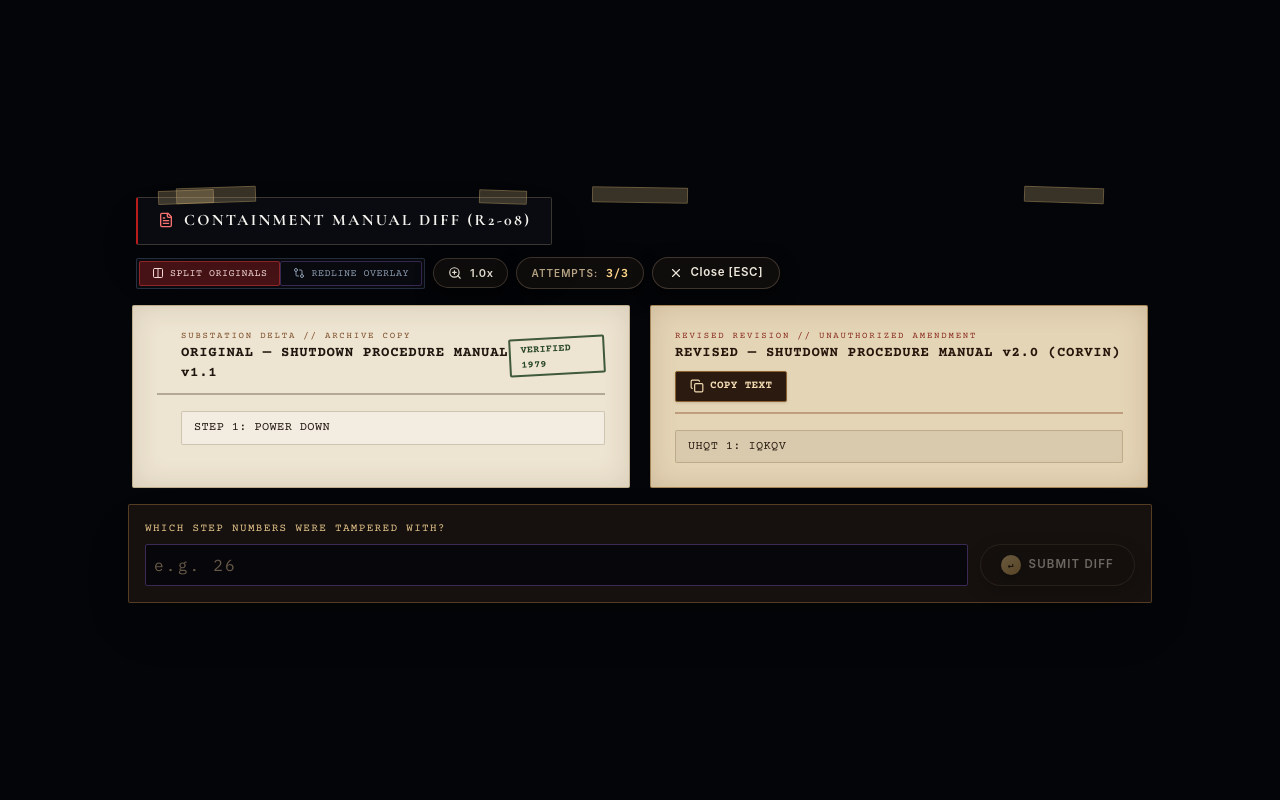
Test case: Room 6 (The Anointing Vault) Comprehensive Test Suite › counts attempts down as remaining attempts (3/3 -> 2/3) in ManualDiffModal and FailsafeCircuitModal
The image size is (1280, 800).
expect the text "3/3" is shown: met, box left=606, top=264, right=629, bottom=282
Type "99" into the field named "tampered steps" at (556, 565), box left=145, top=544, right=968, bottom=586
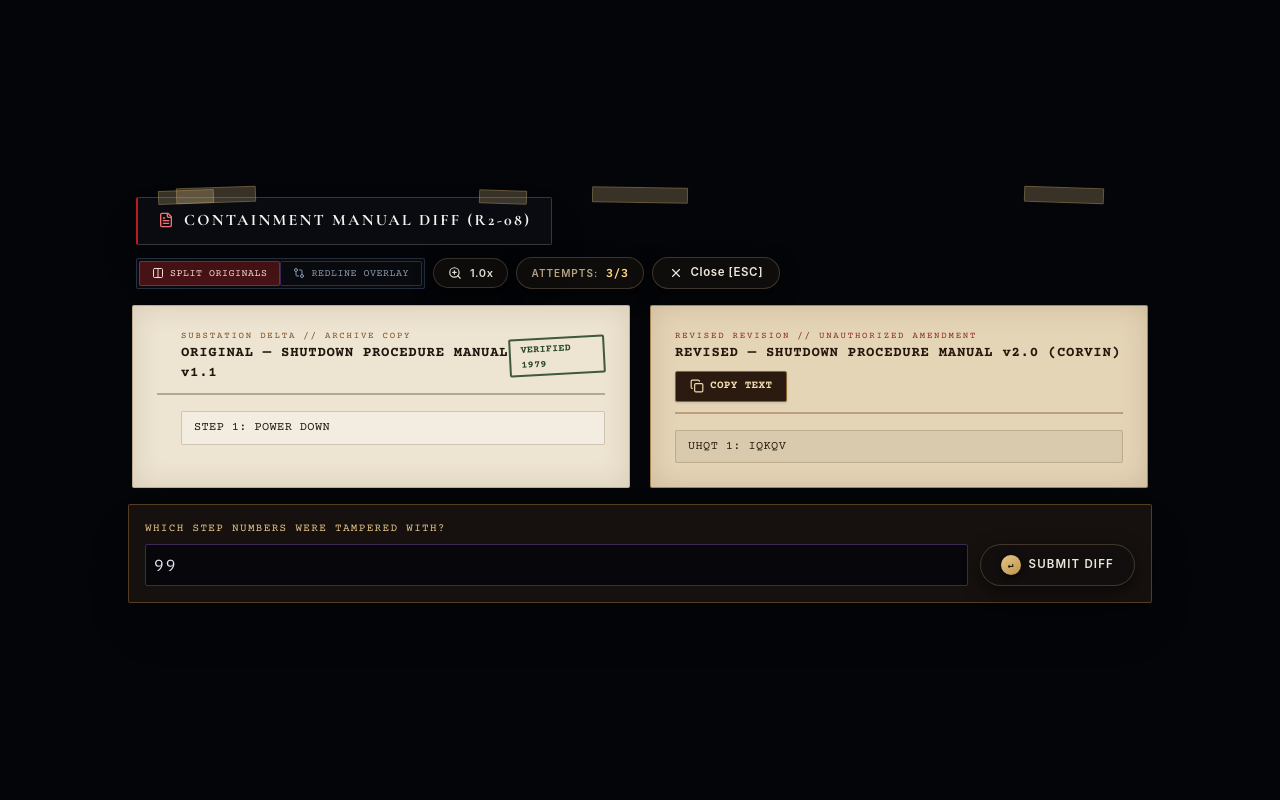
Click the button "↵ SUBMIT DIFF" at (1057, 565), box left=980, top=544, right=1135, bottom=586
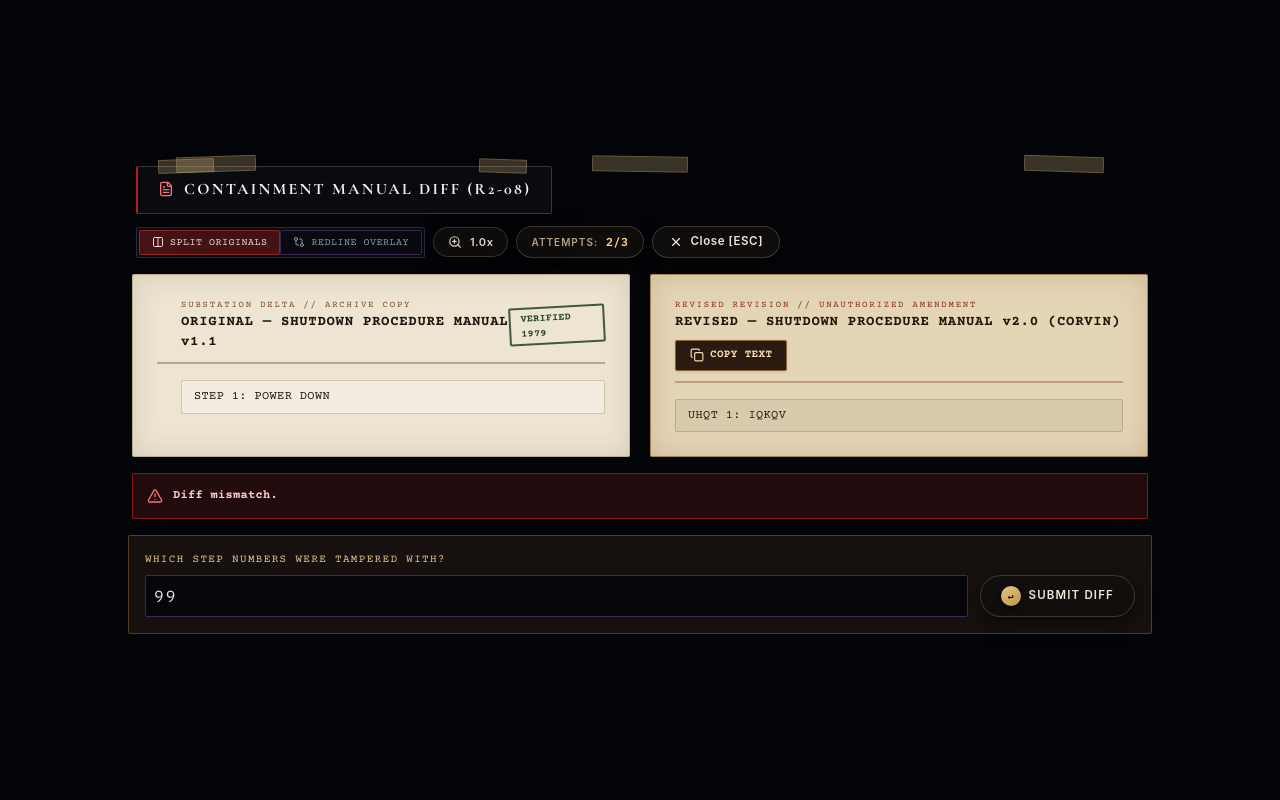
expect the text "2/3" is shown: met, box left=606, top=233, right=629, bottom=251
